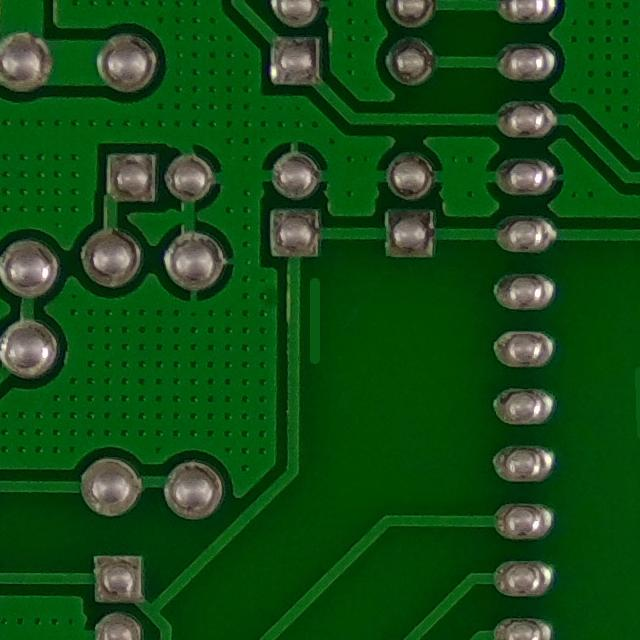spurious_copper: (303, 272, 338, 368)
